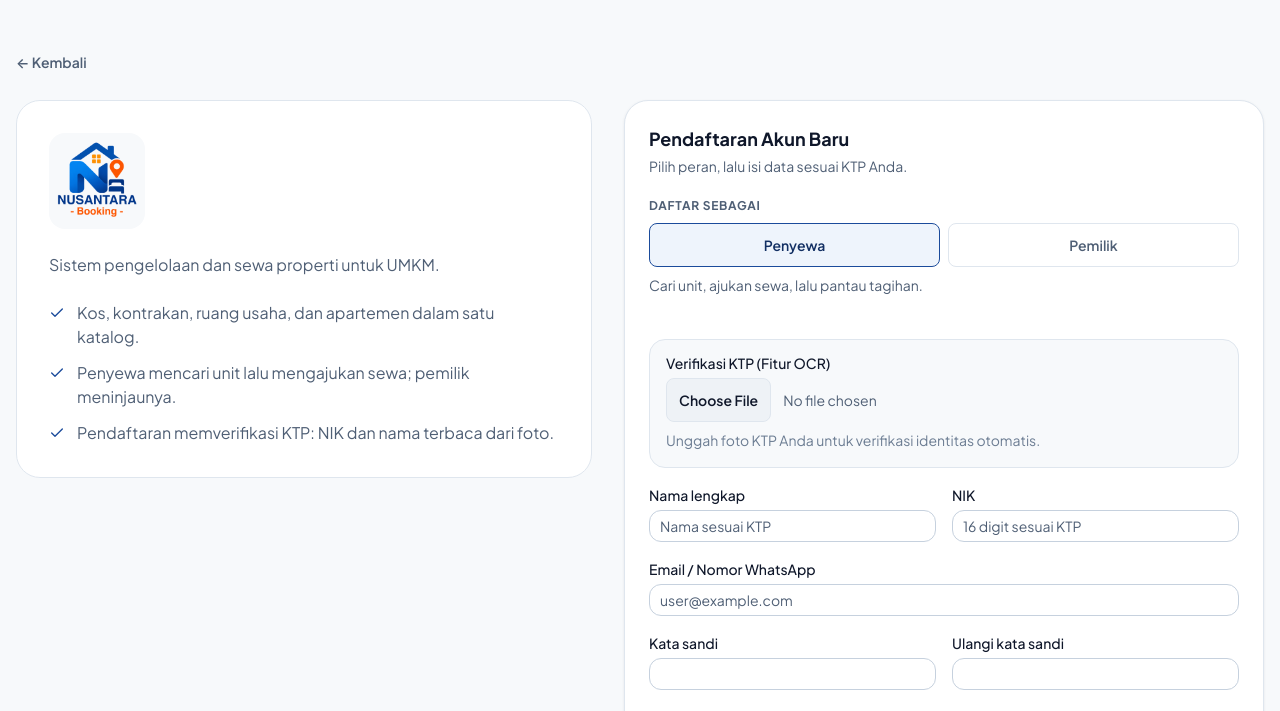
Test: pendaftaran multipart › menolak mendaftar tanpa berkas KTP tanpa menghubungi server
Step 1. Type "Budi Santoso" into the field labelled "Nama lengkap" → (792, 526), box [649,510,936,542]
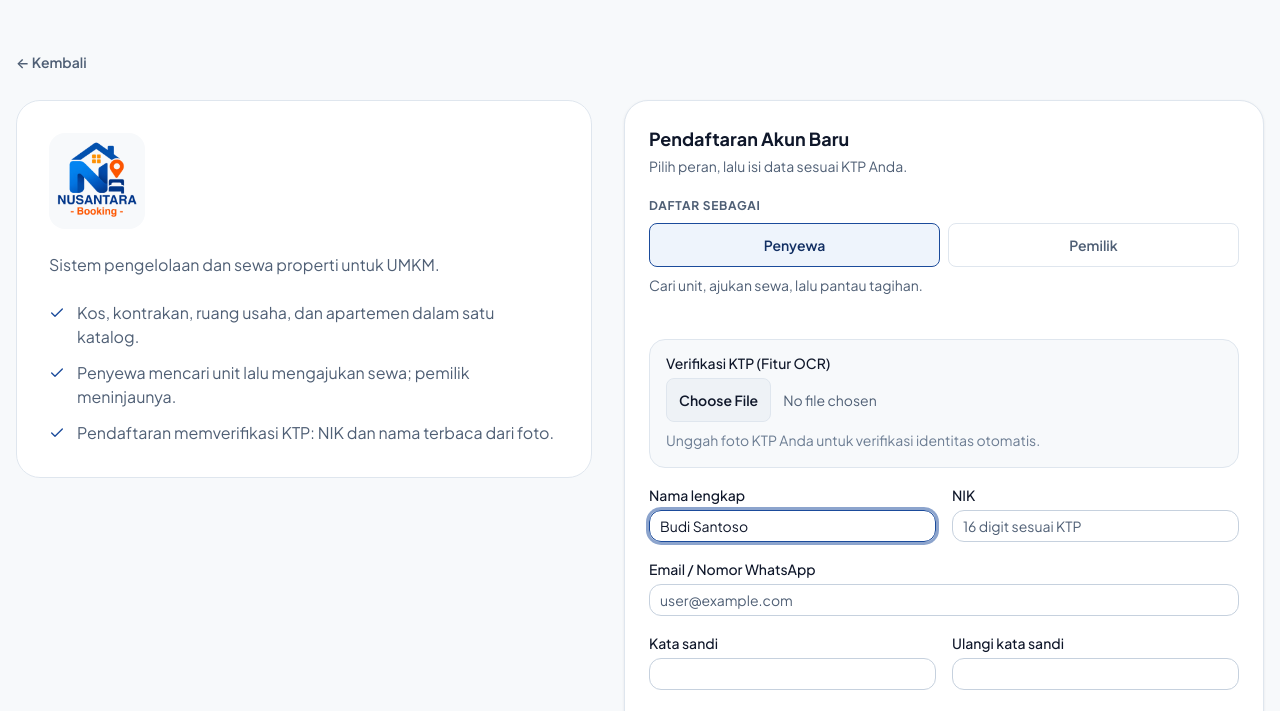
Step 2. Type "3578123456780001" into the field labelled "NIK" → (1096, 526), box [952,510,1239,542]
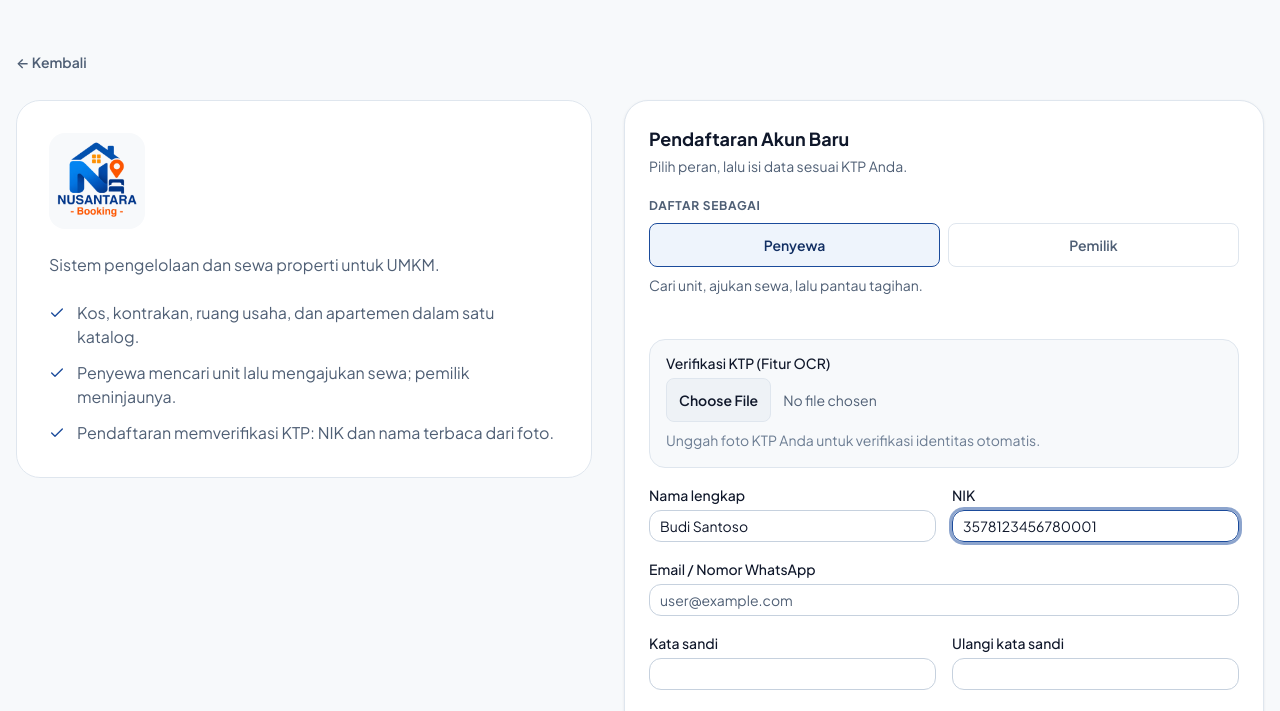
Step 3. Type "budi@mail.com" into the field labelled "Email / Nomor WhatsApp" → (944, 600), box [649,584,1239,616]
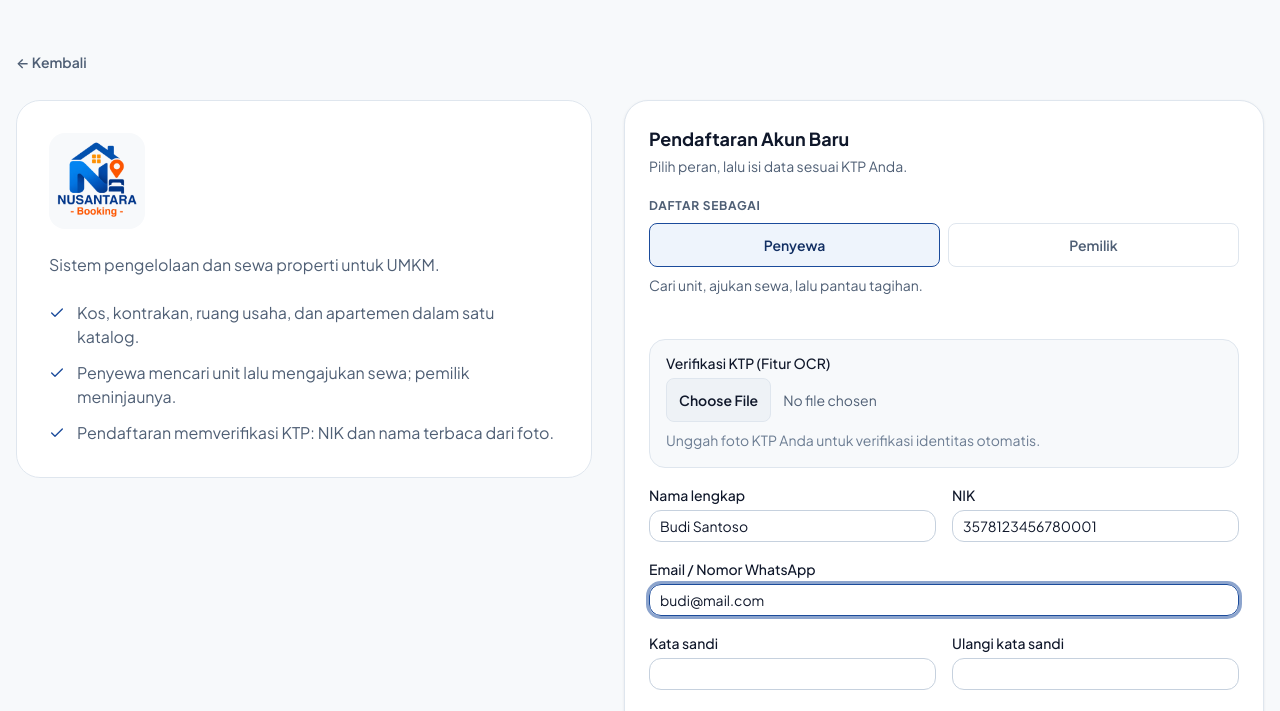
Step 4. Type "rahasia123" into the password field labelled "Kata sandi" → (792, 674), box [649,658,936,690]
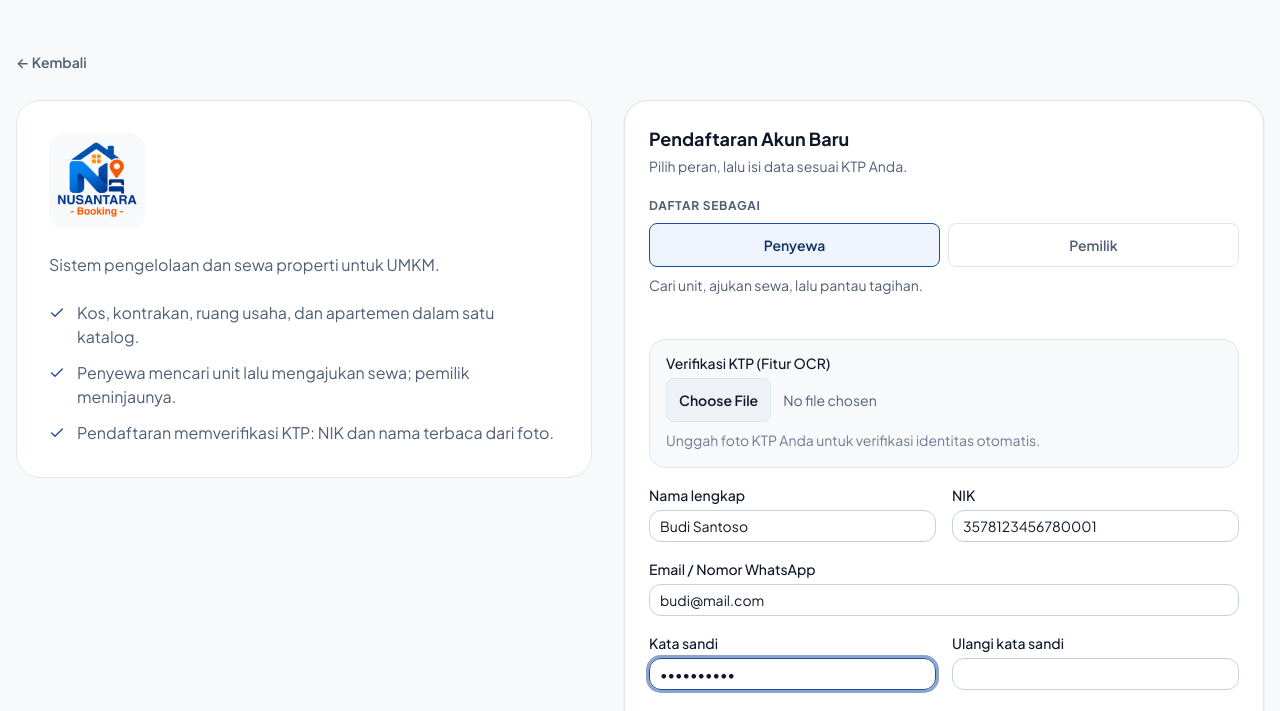
Step 5. Type "rahasia123" into the password field labelled "Ulangi kata sandi" → (1096, 674), box [952,658,1239,690]
(page scrolled)
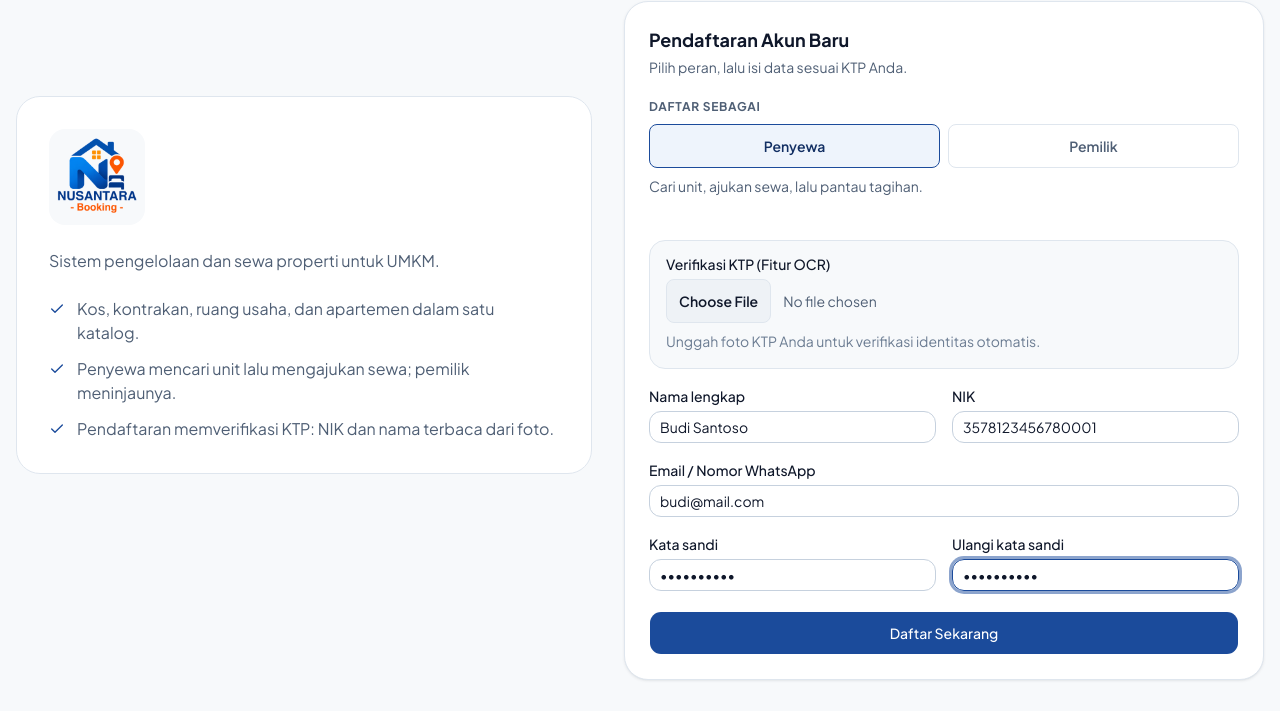
Step 6. Click the button "Daftar Sekarang" → (944, 633), box [649,611,1239,655]
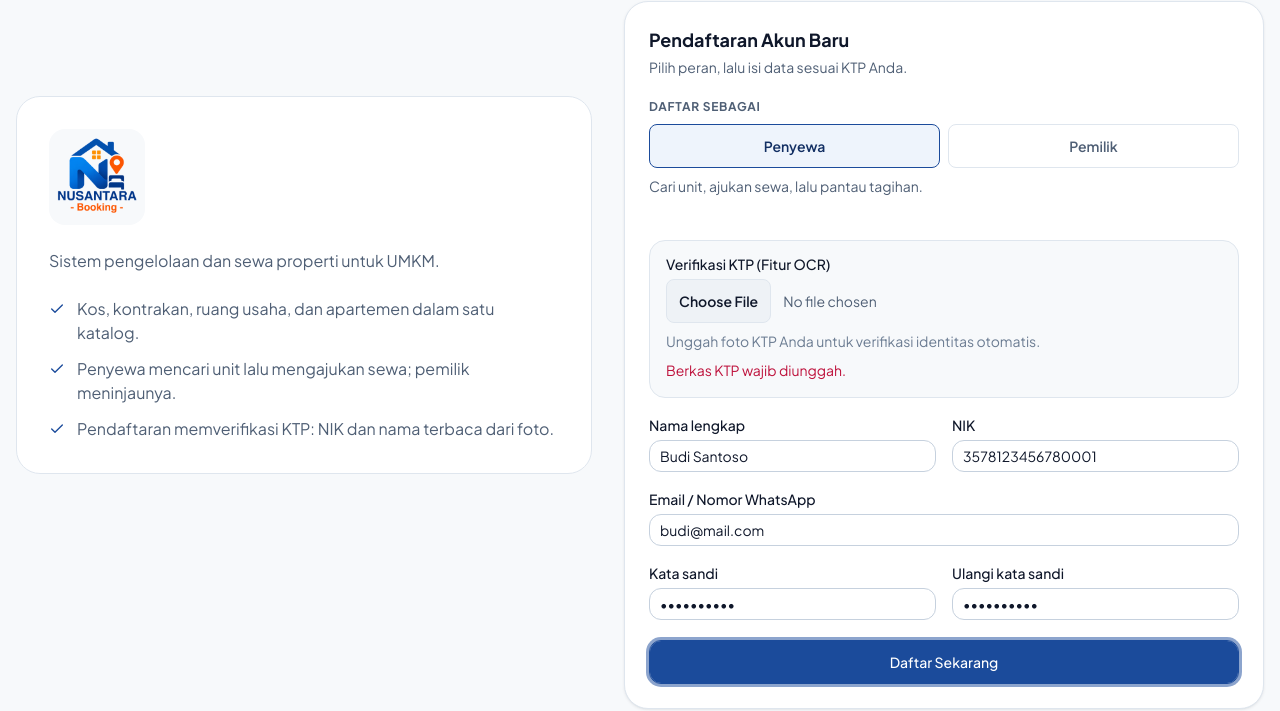
Check: the text "Berkas KTP wajib diunggah." is shown, box [666,361,846,379]
